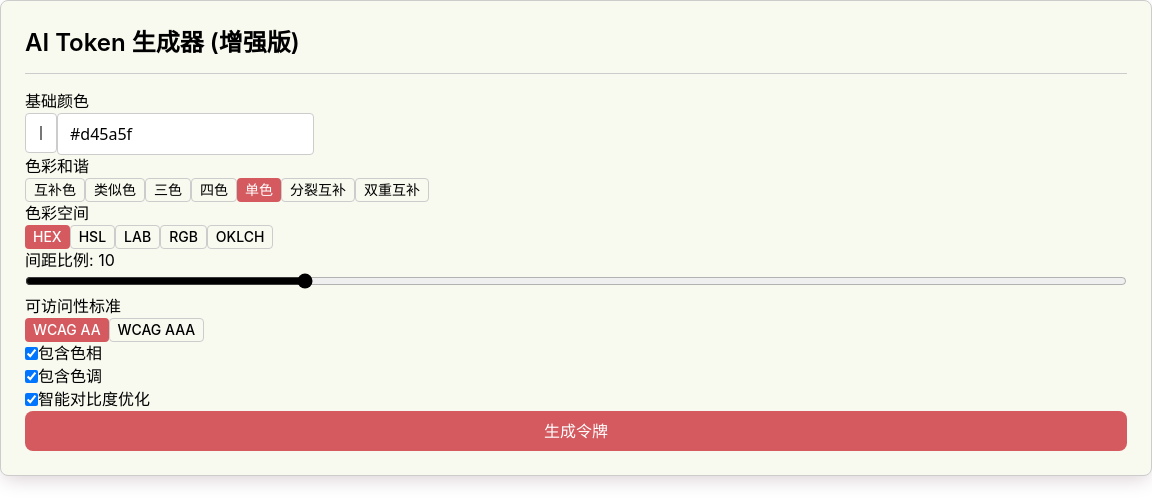
AITokenGeneratorEnhanced › 应该允许启用/禁用智能对比度优化
Click the checkbox labelled "智能对比度优化" at {"x": 32, "y": 399}, box [25,393,38,406]
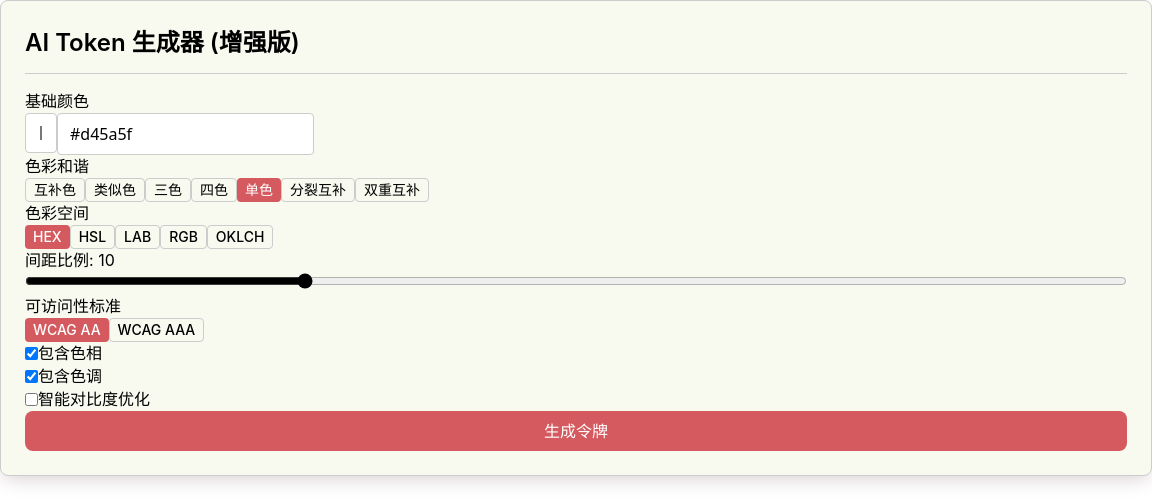
Result: the checkbox labelled "智能对比度优化" is not checked at [25,393,38,406]
